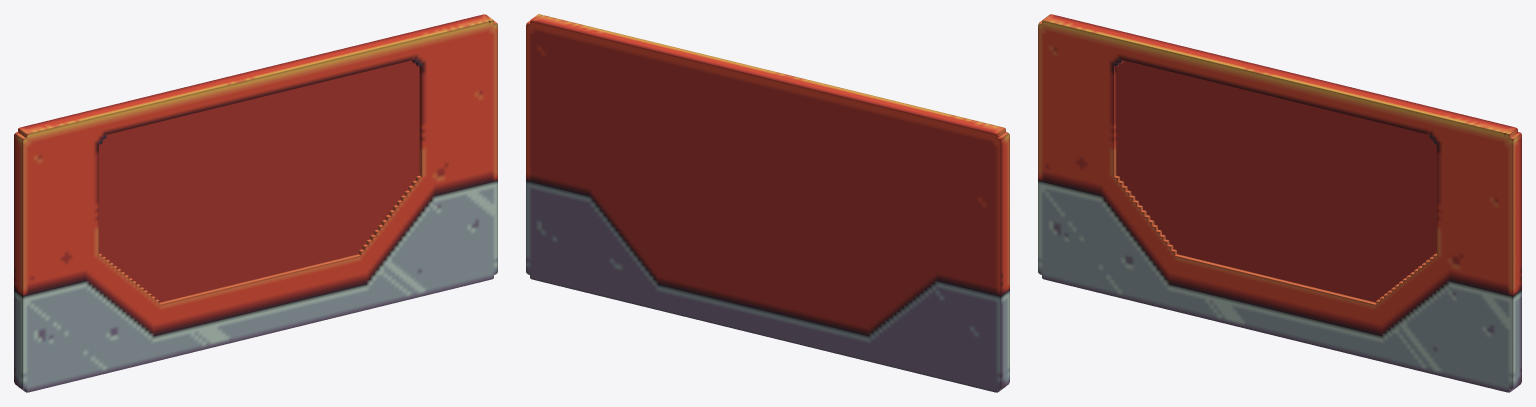
The model's file is Hardware_Wallet.obj.
The picture shows the model from 3 angles, left to right: view 1: azimuth 30°, elevation 25°; view 2: azimuth 150°, elevation 25°; view 3: azimuth 330°, elevation 25°; orthographic projection.
Visible parts, largest first — view 1: Default; view 2: Default; view 3: Default.
Part boxes in pixels (<box>): Default: <box>14,14,497,392</box>; Default: <box>526,14,1009,392</box>; Default: <box>1038,14,1521,392</box>.
Bounding box in the file's own units: 39.06 × 20.31 × 1.25.
1 material, 1 textured.
